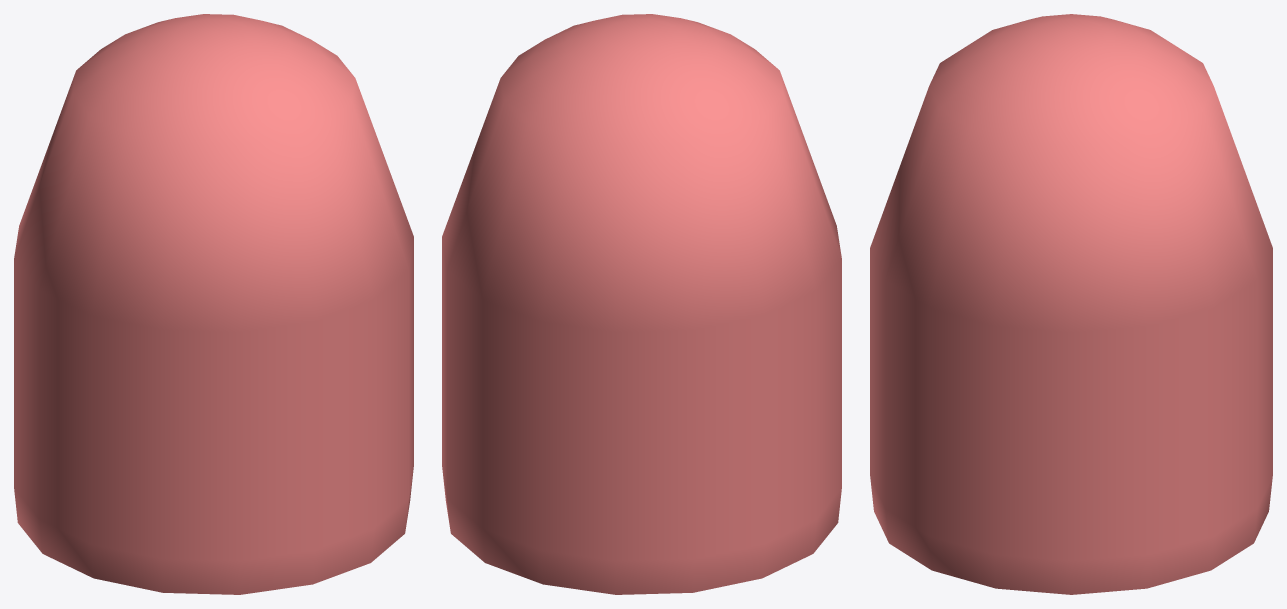
File: coronavirus.glb
The picture shows the model from 3 angles, left to right: view 1: azimuth 30°, elevation 25°; view 2: azimuth 150°, elevation 25°; view 3: azimuth 270°, elevation 25°; orthographic projection.
Visible parts, largest first — view 1: coronavirus-node; view 2: coronavirus-node; view 3: coronavirus-node.
Boxes of the visible parts, <box> form: coronavirus-node: <box>14,14,413,594</box>; coronavirus-node: <box>442,14,841,594</box>; coronavirus-node: <box>870,14,1272,594</box>.
Size of the model in its own units: 1.4 by 1.84 by 1.4.
